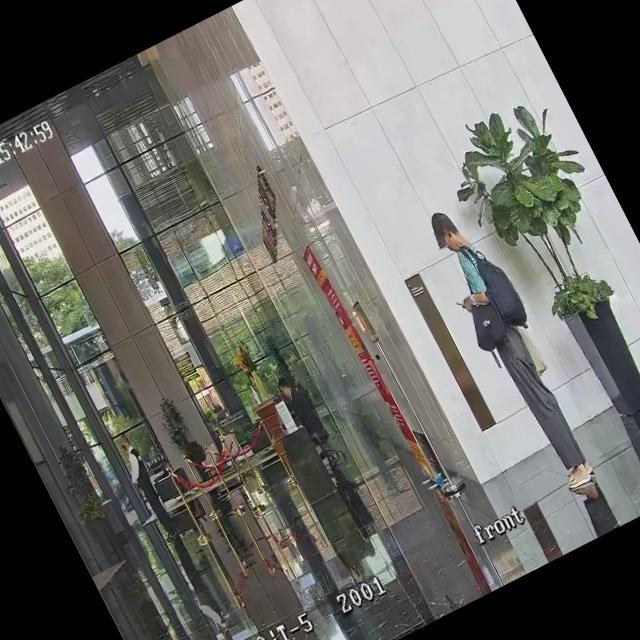person: (416, 197, 614, 516), (112, 432, 178, 538), (272, 366, 330, 448)
